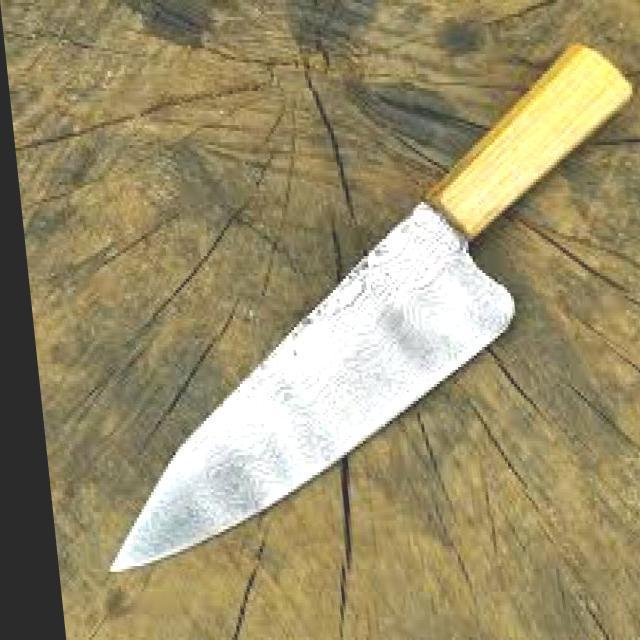Knife: (98, 31, 640, 586)
